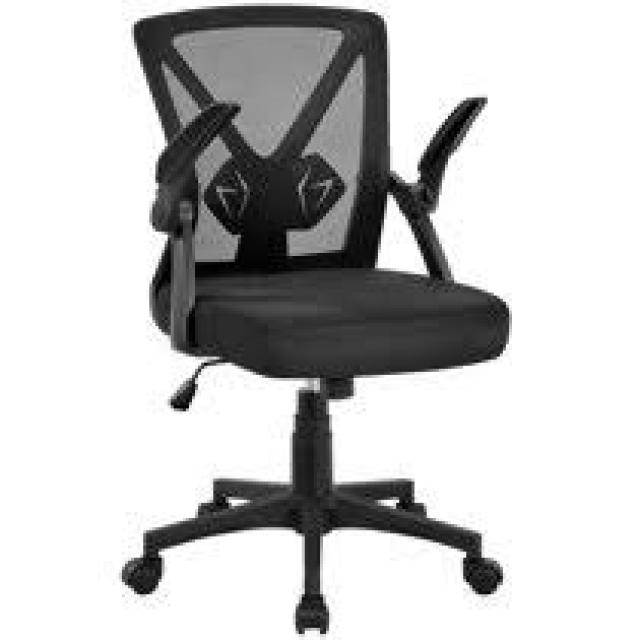chair: (14, 0, 589, 640)
